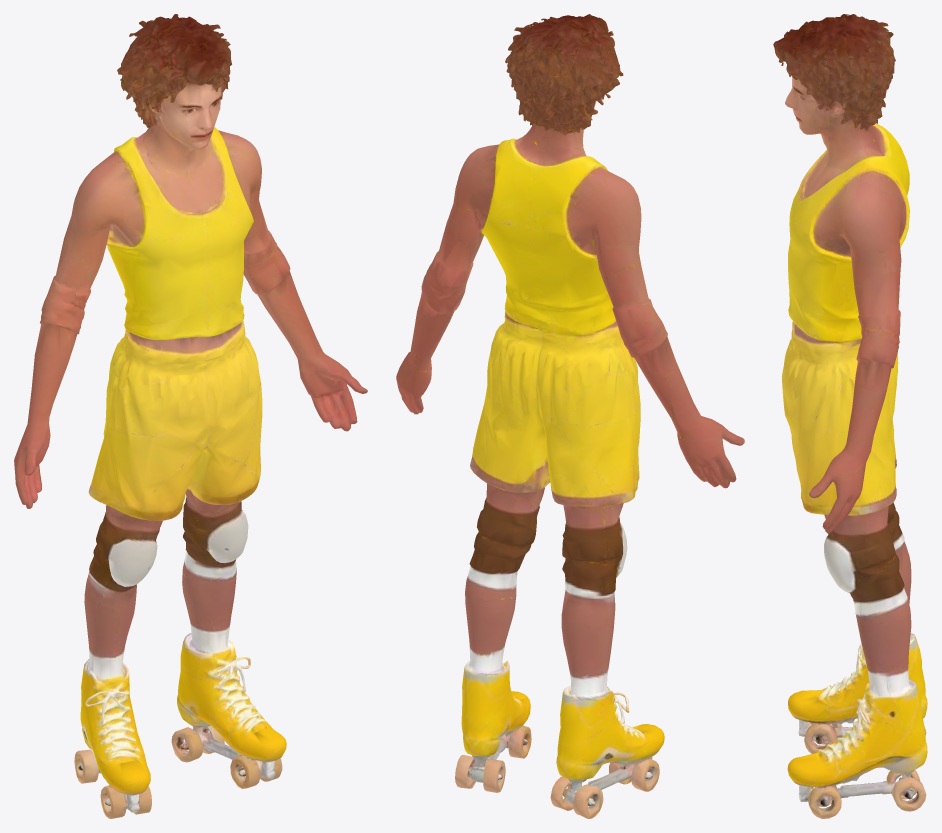
File: skater.glb
3 renders of one model, left to right at view 1: azimuth 30°, elevation 25°; view 2: azimuth 150°, elevation 25°; view 3: azimuth 270°, elevation 25°, orthographic.
Size of the model in its own units: 0.8798 by 1.9 by 0.3483.
1 material, 1 textured.
